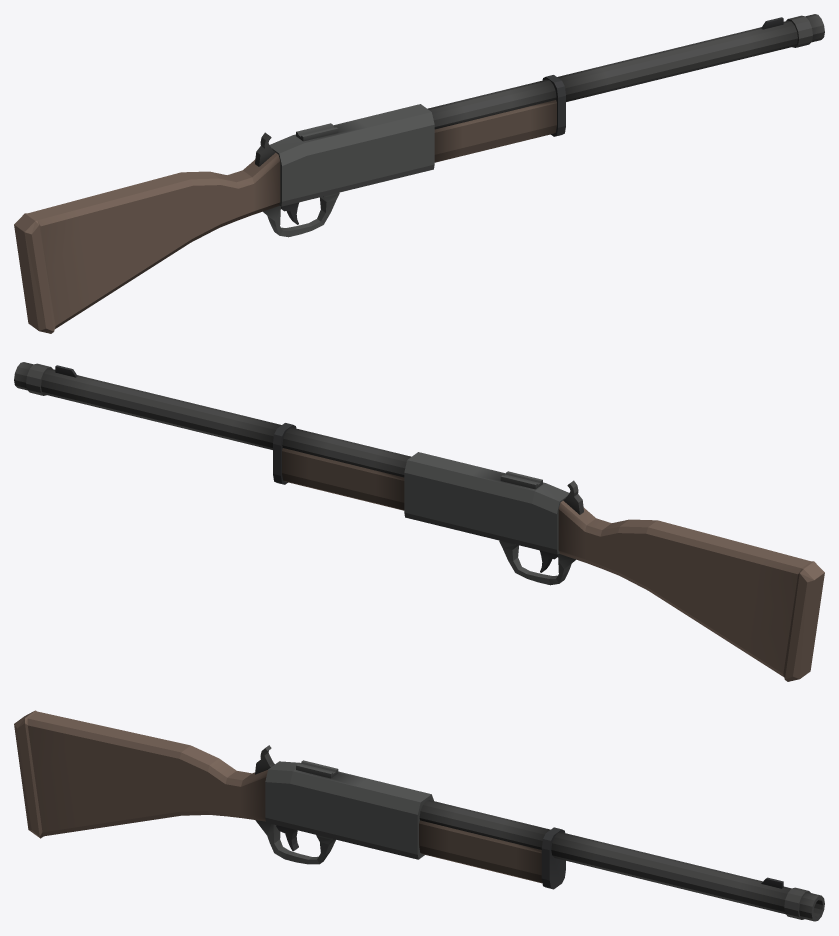
The model's file is q-shotgun-4.glb.
The picture shows the model from 3 angles, top to bottom: view 1: azimuth 30°, elevation 25°; view 2: azimuth 150°, elevation 25°; view 3: azimuth 330°, elevation 25°; orthographic projection.
Visible parts, largest first — view 1: body; view 2: body; view 3: body.
Part boxes in pixels (x1=…): body: x1=14, y1=14, x2=824, y2=333; body: x1=14, y1=362, x2=824, y2=681; body: x1=14, y1=710, x2=824, y2=921.
Size of the model in its own units: 1 by 0.1701 by 0.0366.
